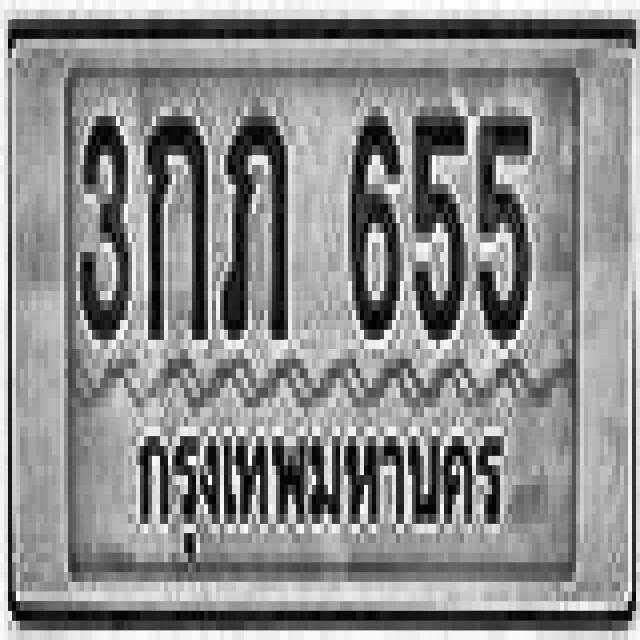license-plate: (9, 34, 630, 609)
